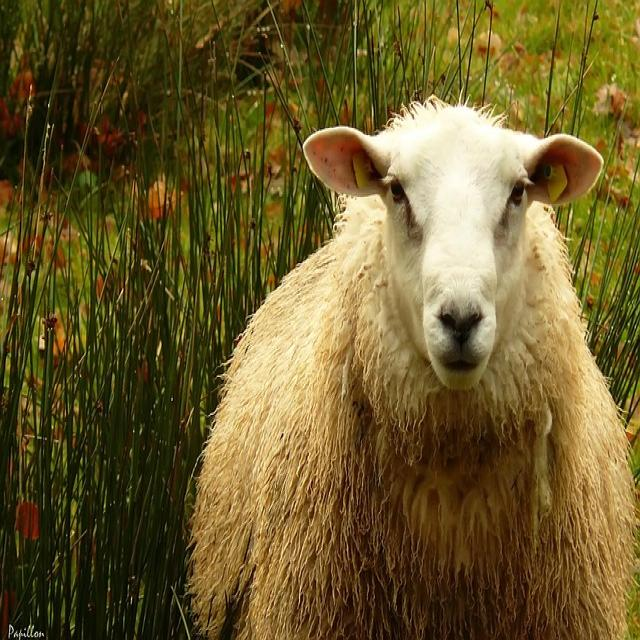goat: (191, 100, 634, 638)
